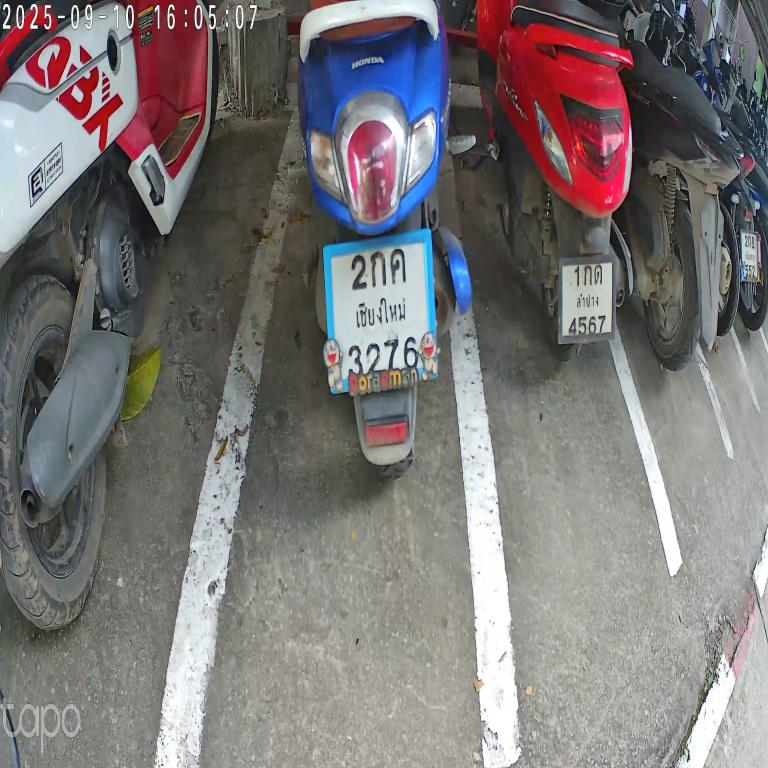license plate: (314, 214, 442, 400), (554, 243, 620, 358), (734, 226, 768, 293)
